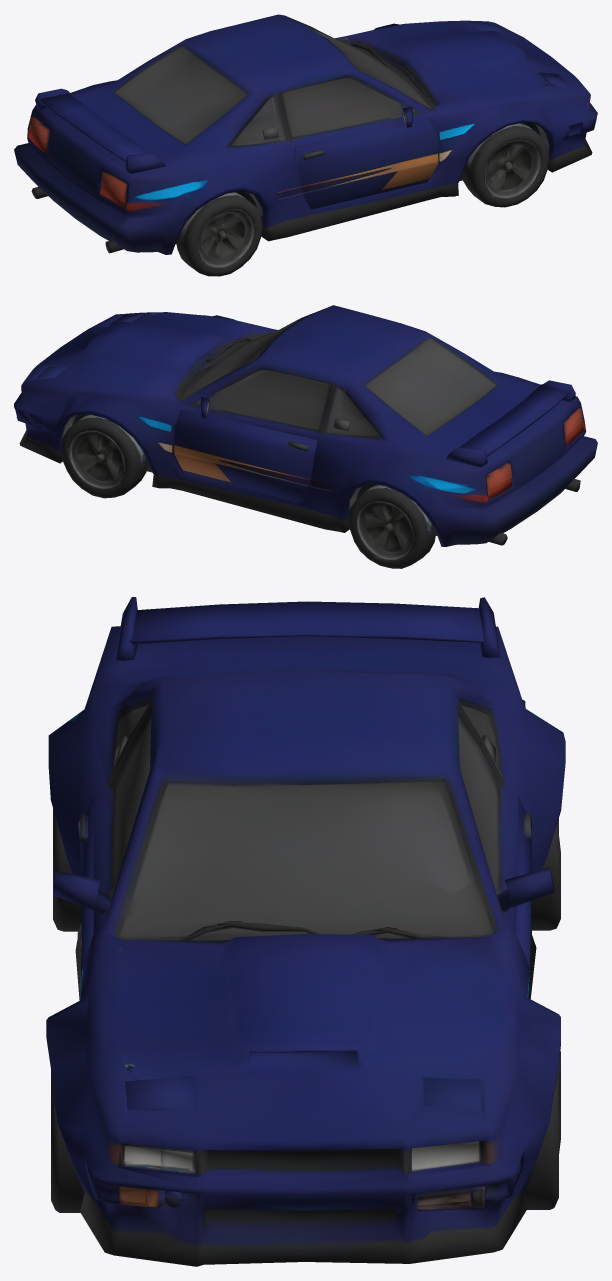
File: apex-drift-coupe-C04-Gnjm.glb
The picture shows the model from 3 angles, top to bottom: view 1: azimuth 30°, elevation 25°; view 2: azimuth 150°, elevation 25°; view 3: azimuth 270°, elevation 25°; orthographic projection. The views are drawn at different scales.
Parts seen in each view (by area): view 1: part; view 2: part; view 3: part.
Boxes of the visible parts, box(x1,y1,x2,y2) form: part: box(14, 14, 597, 276); part: box(14, 305, 597, 568); part: box(46, 597, 565, 1266).
Size of the model in its own units: 0.998 by 0.2988 by 0.4512.
1 material, 1 textured.
